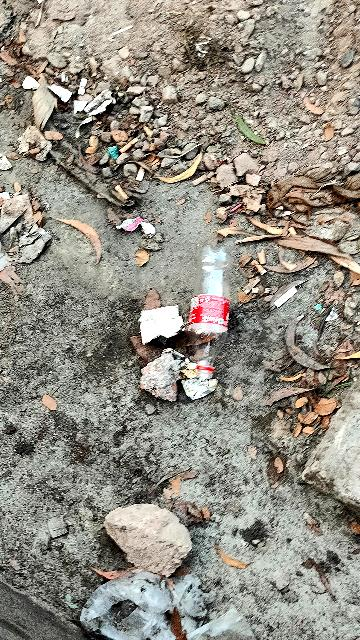bottle: (177, 244, 243, 384)
